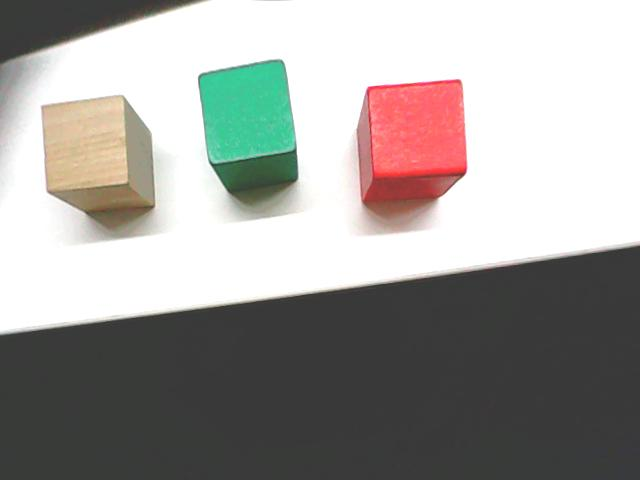green_box: (194, 55, 302, 196)
raw_box: (32, 85, 168, 217)
red_box: (353, 74, 471, 207)
